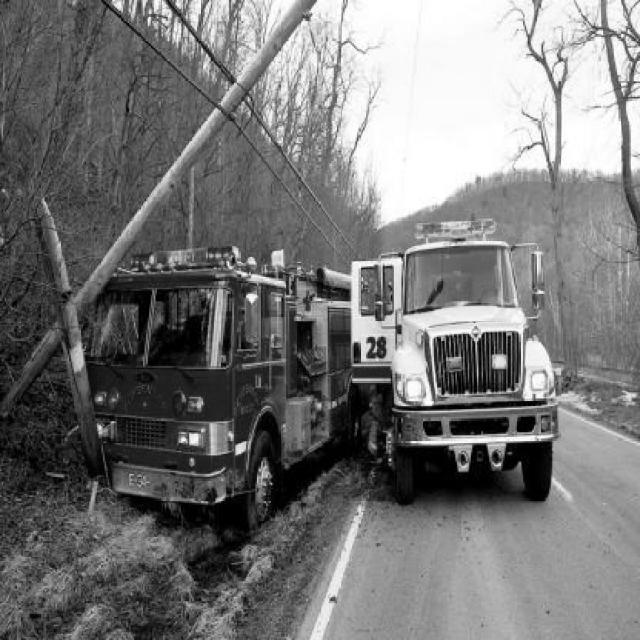Fire Truck: (86, 246, 367, 530), (351, 219, 560, 506)
